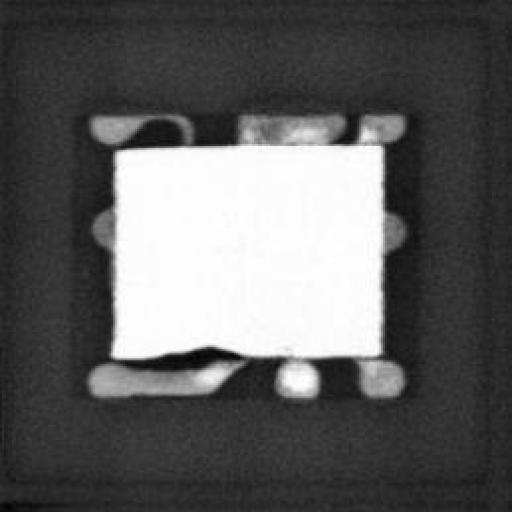DIE_BROKEN: (143, 342, 244, 360)
